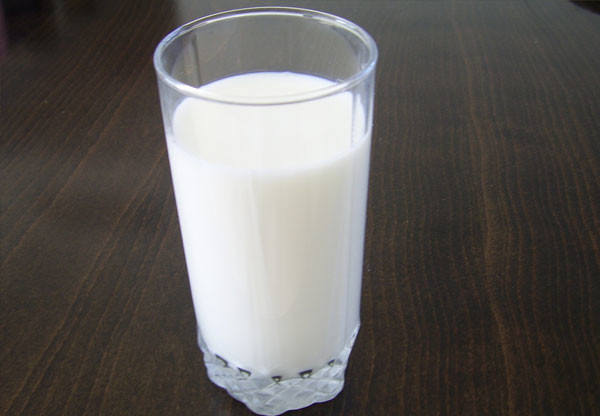glass of milk: (160, 44, 369, 398)
